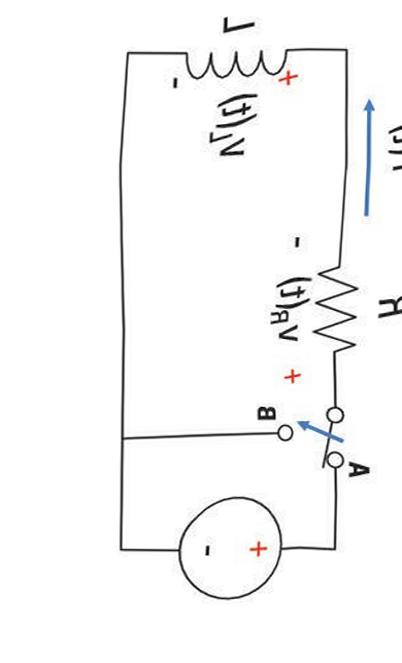Battery: (161, 473, 302, 629)
